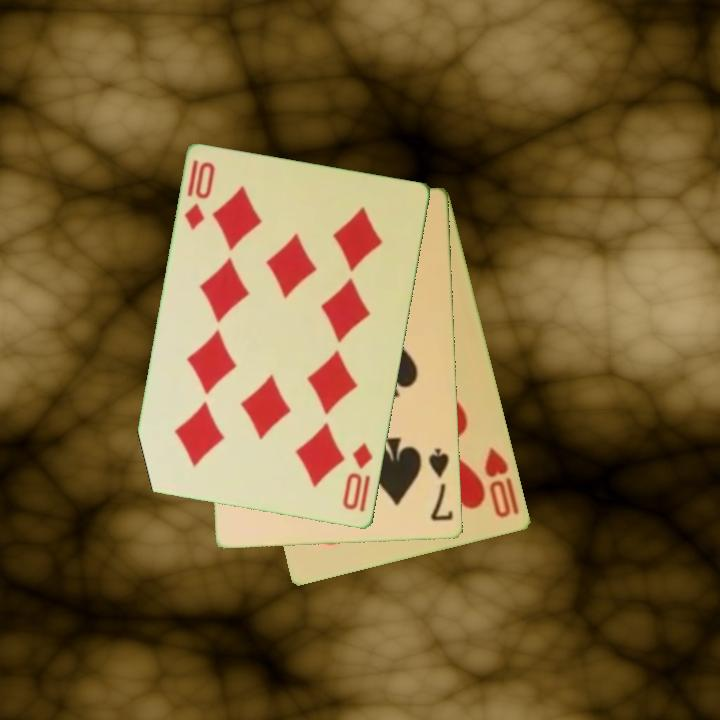10d: (339, 440, 377, 514), (181, 157, 218, 233)
10h: (481, 444, 514, 522)
7s: (425, 445, 456, 524)
